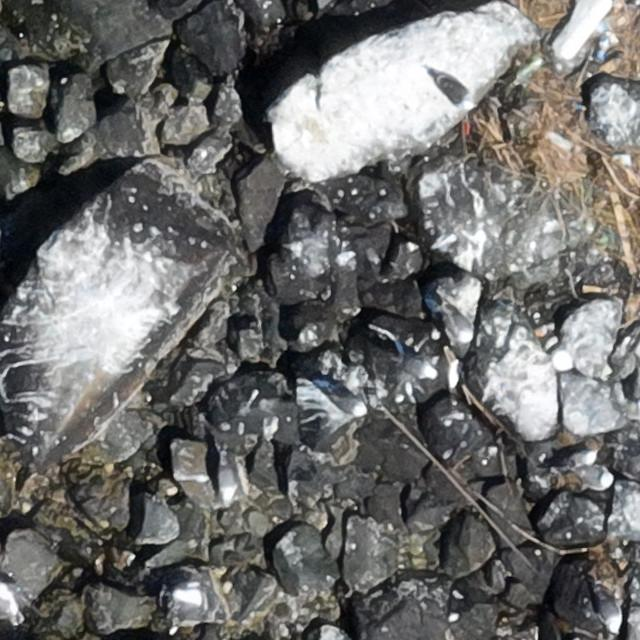umineko: (434, 70, 478, 112), (595, 594, 621, 634), (217, 462, 240, 504), (335, 393, 367, 417), (407, 358, 440, 380), (584, 468, 614, 488)
